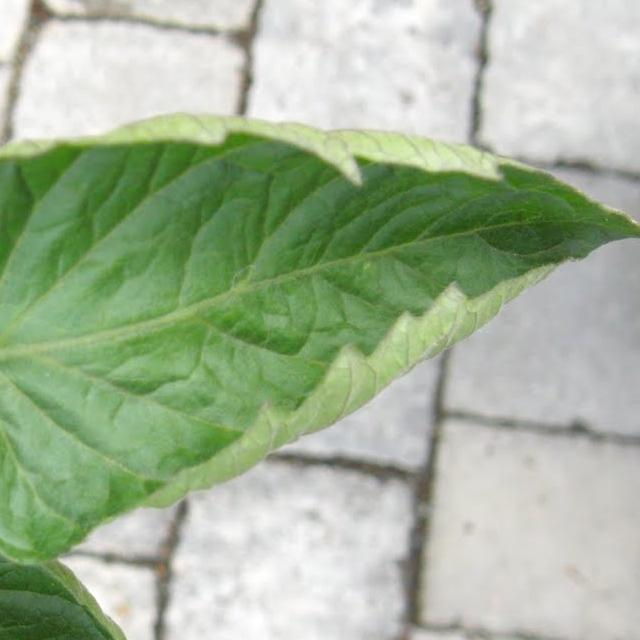Tomato leaf: (0, 128, 628, 564), (0, 422, 245, 640)
